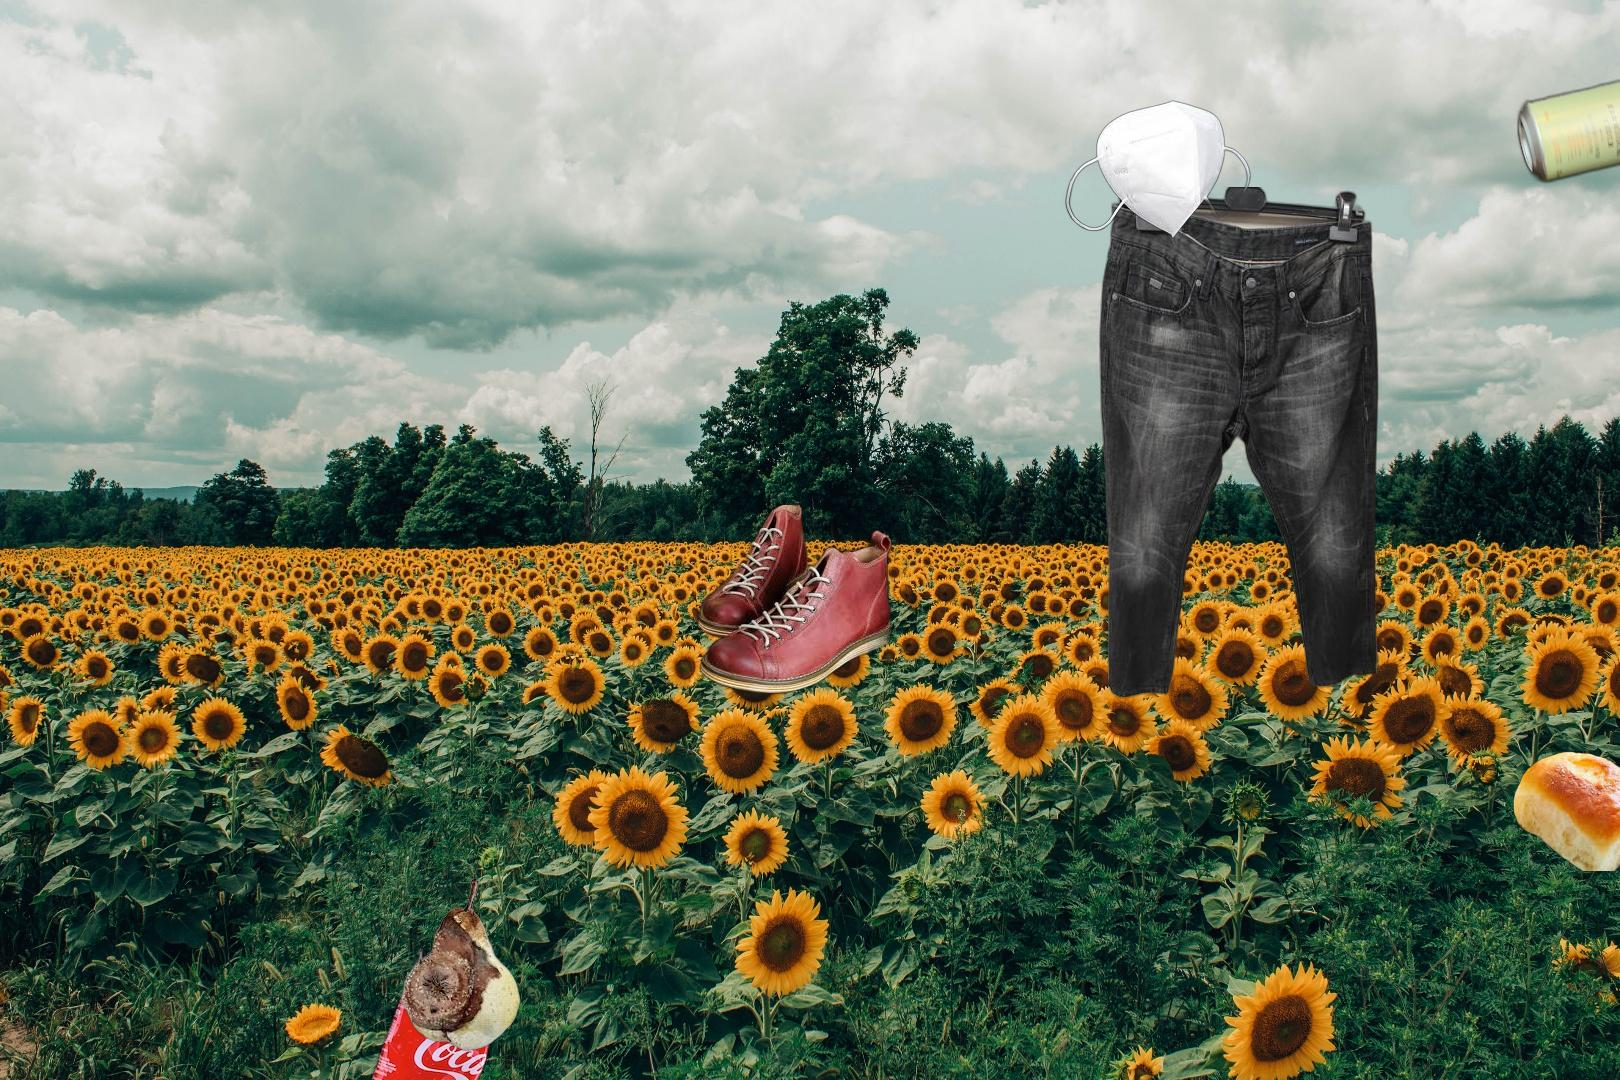biological: (394, 876, 523, 1053), (1512, 749, 1620, 871)
clothes: (1096, 187, 1383, 703)
metal-cans: (360, 944, 503, 1080), (1514, 72, 1620, 188)
penholder: (817, 587, 1620, 1080)
shoes: (695, 501, 908, 721)
trash: (1063, 98, 1254, 243)
